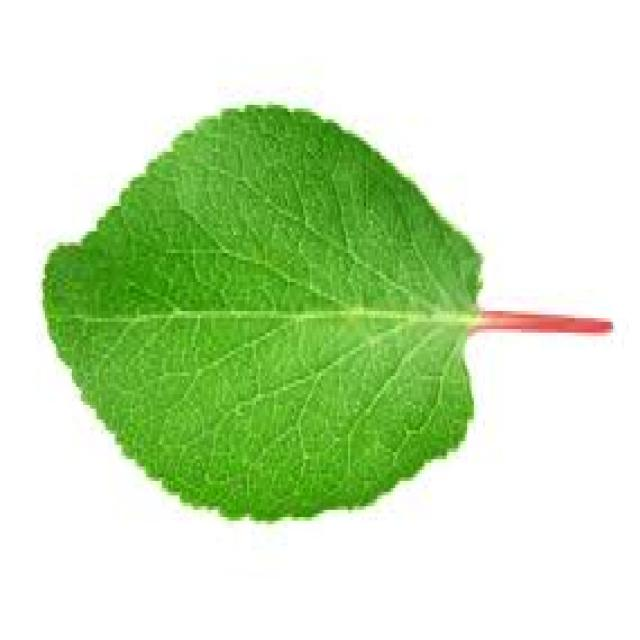yaprak: (44, 110, 613, 520)
